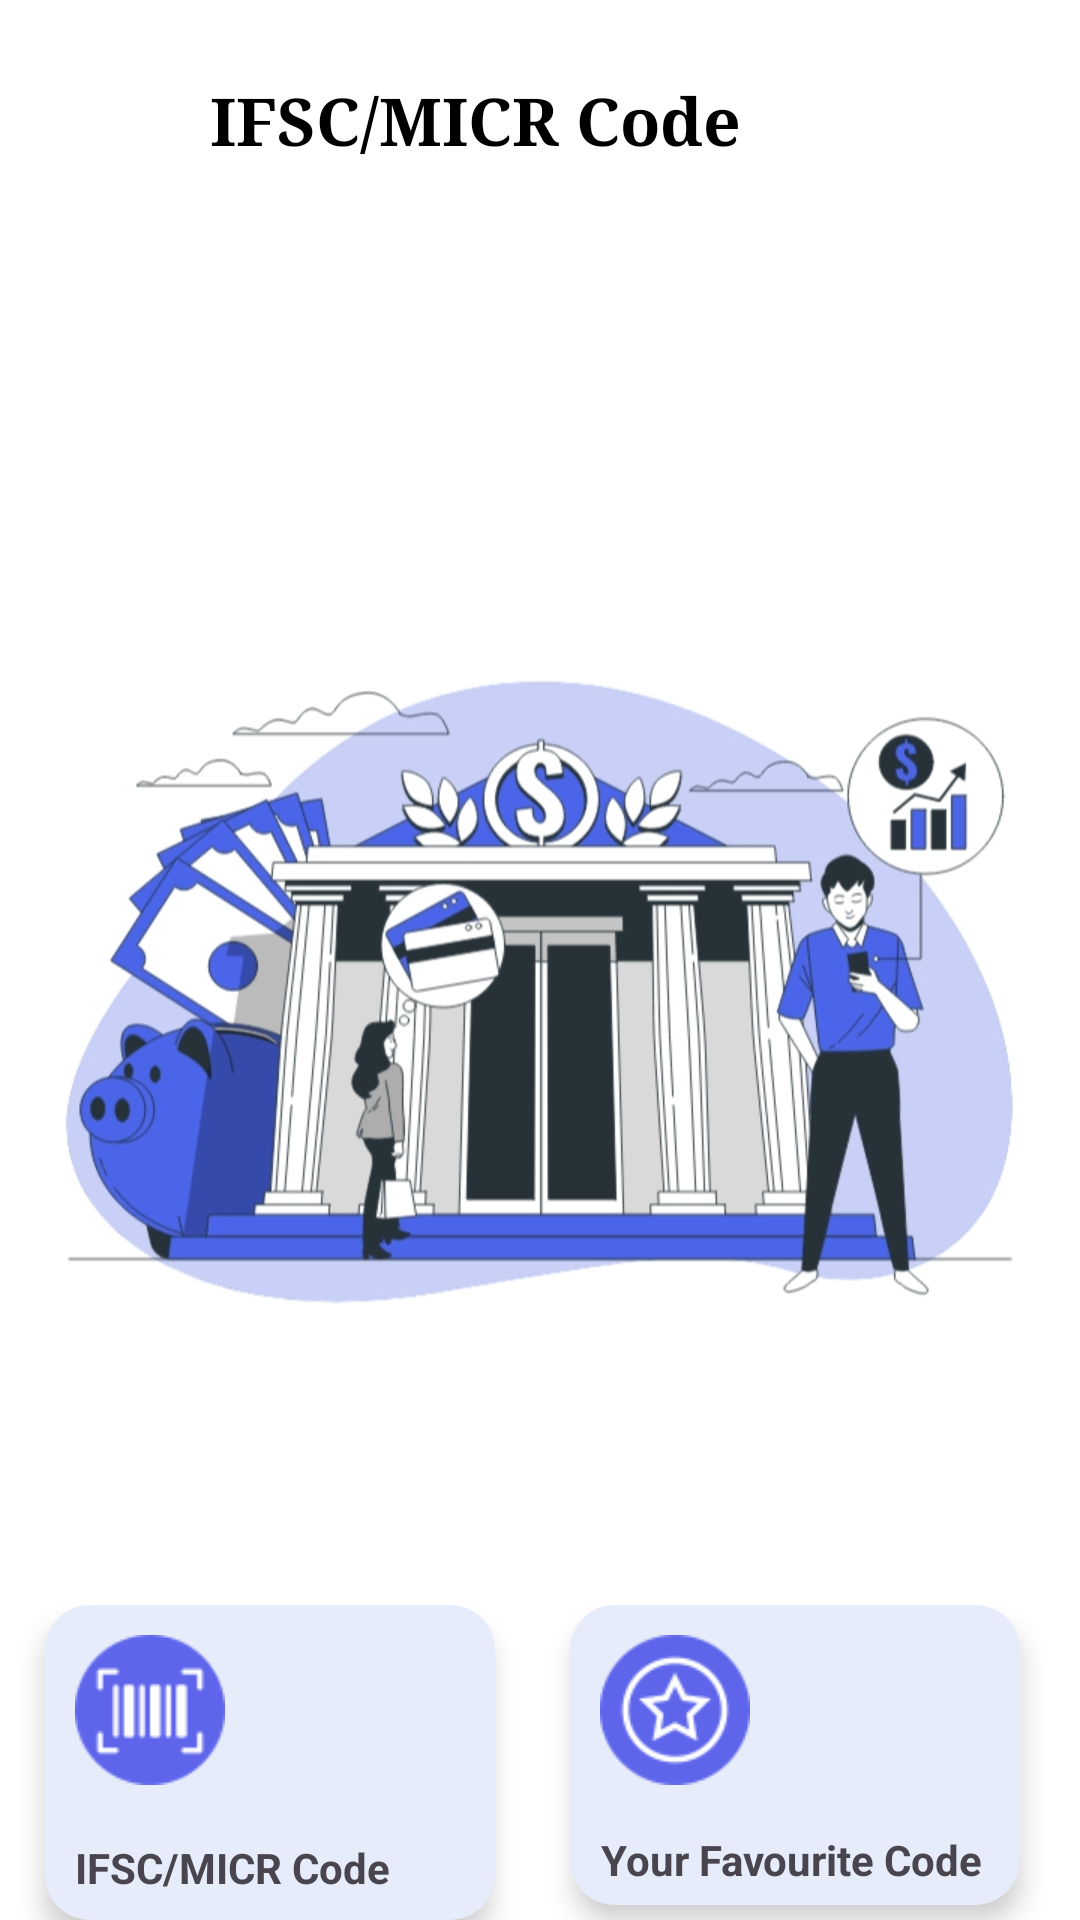

Named icons in this screenshot (1080×1920) and their centers, [x,y]:
barcode: [150,1710]
favouriteimage: [675,1710]
